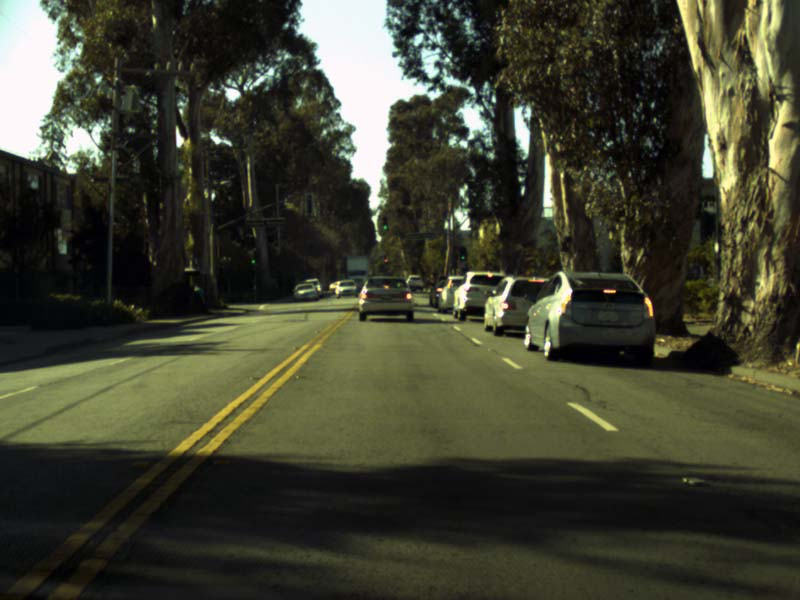Green: (458, 247, 467, 260), (382, 217, 388, 230), (251, 252, 257, 264)
Red: (383, 256, 387, 262)
